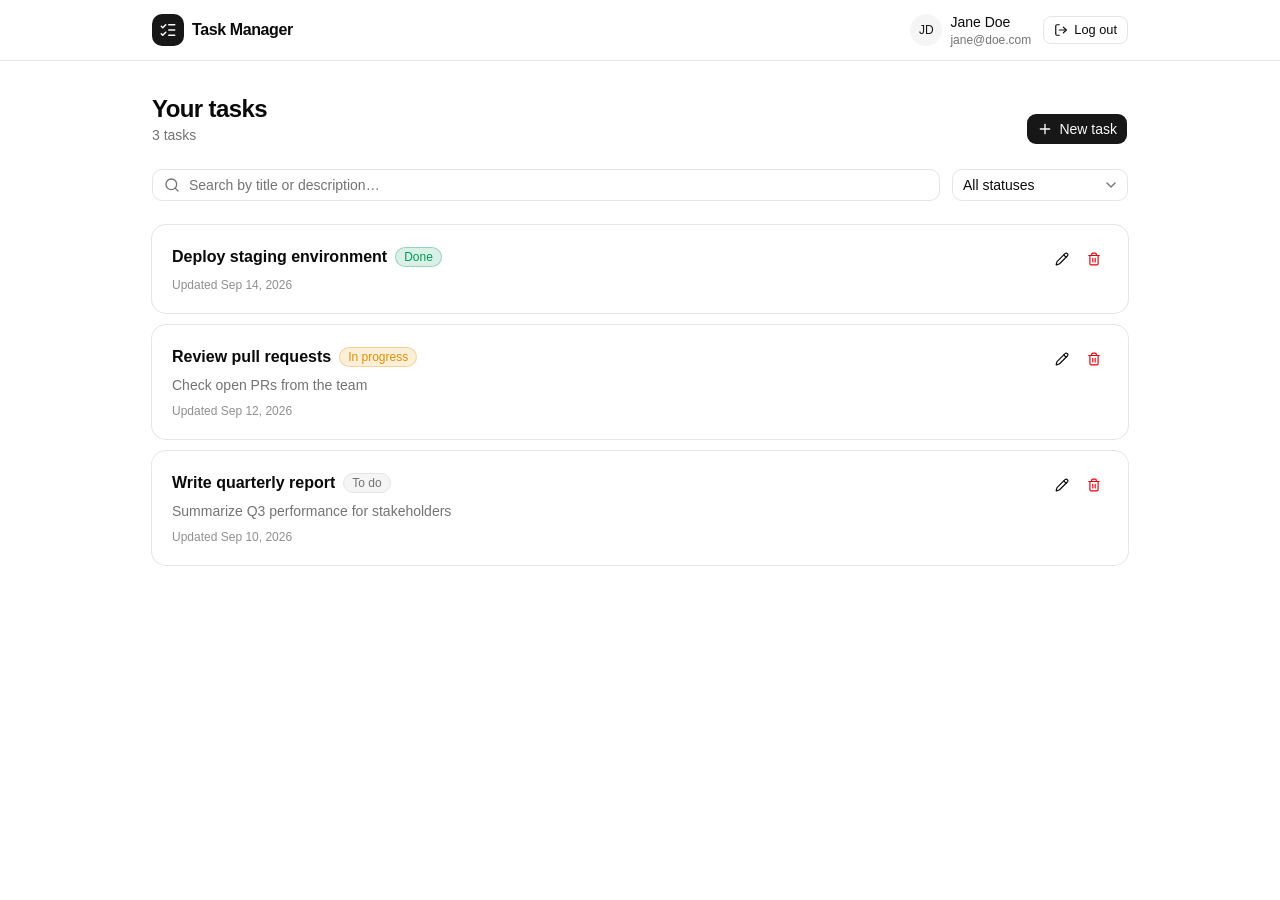
Test case: DashboardPage › edits a task and reflects the update in the list
Check: the heading "Write quarterly report" is shown, box [172,471,335,495]
Click the button named "Edit Write quarterly report" at (1062, 485), box [1048,471,1076,499]
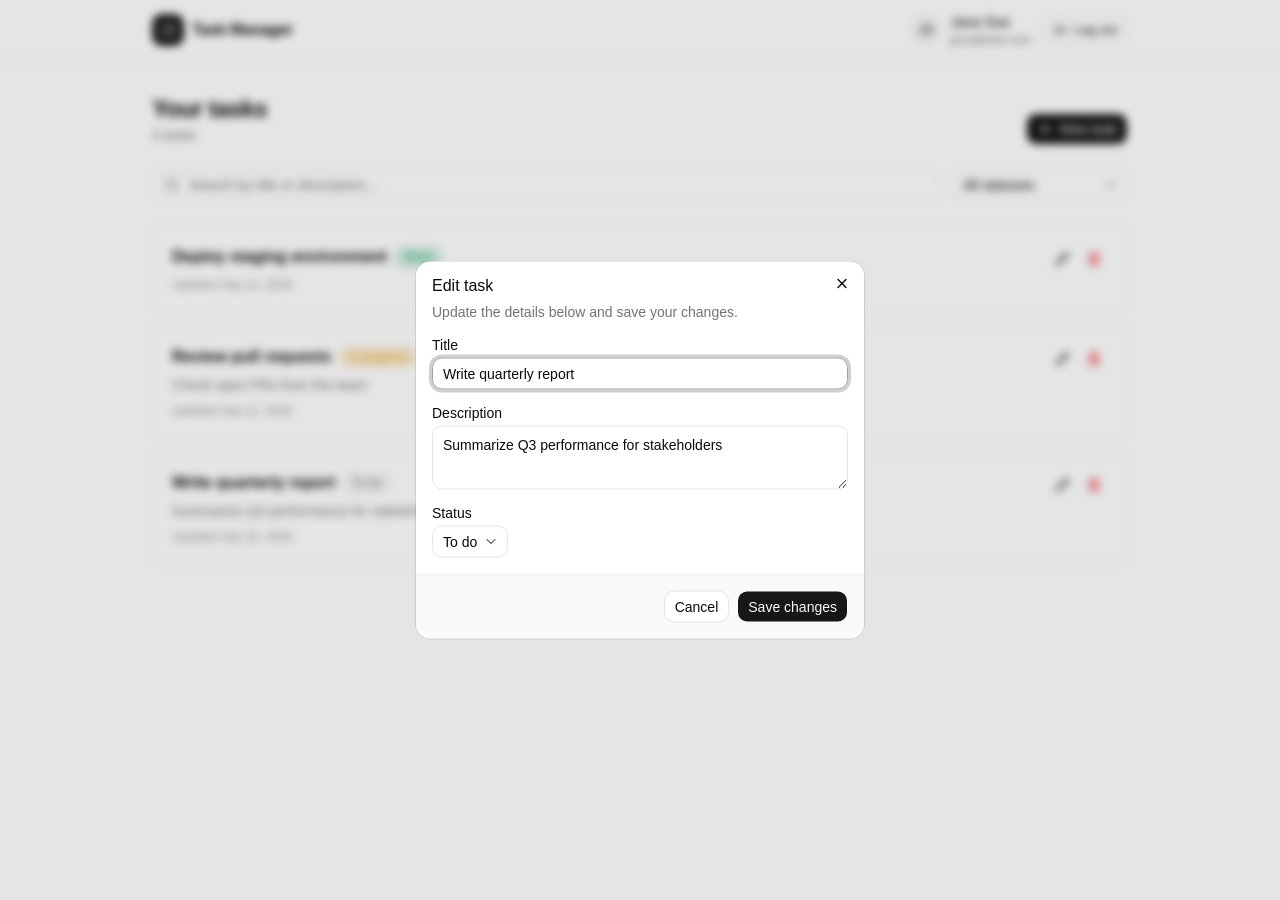
Replace the text in the field labelled "Title" with "Write annual report" at (640, 374), box [432,358,848,390]
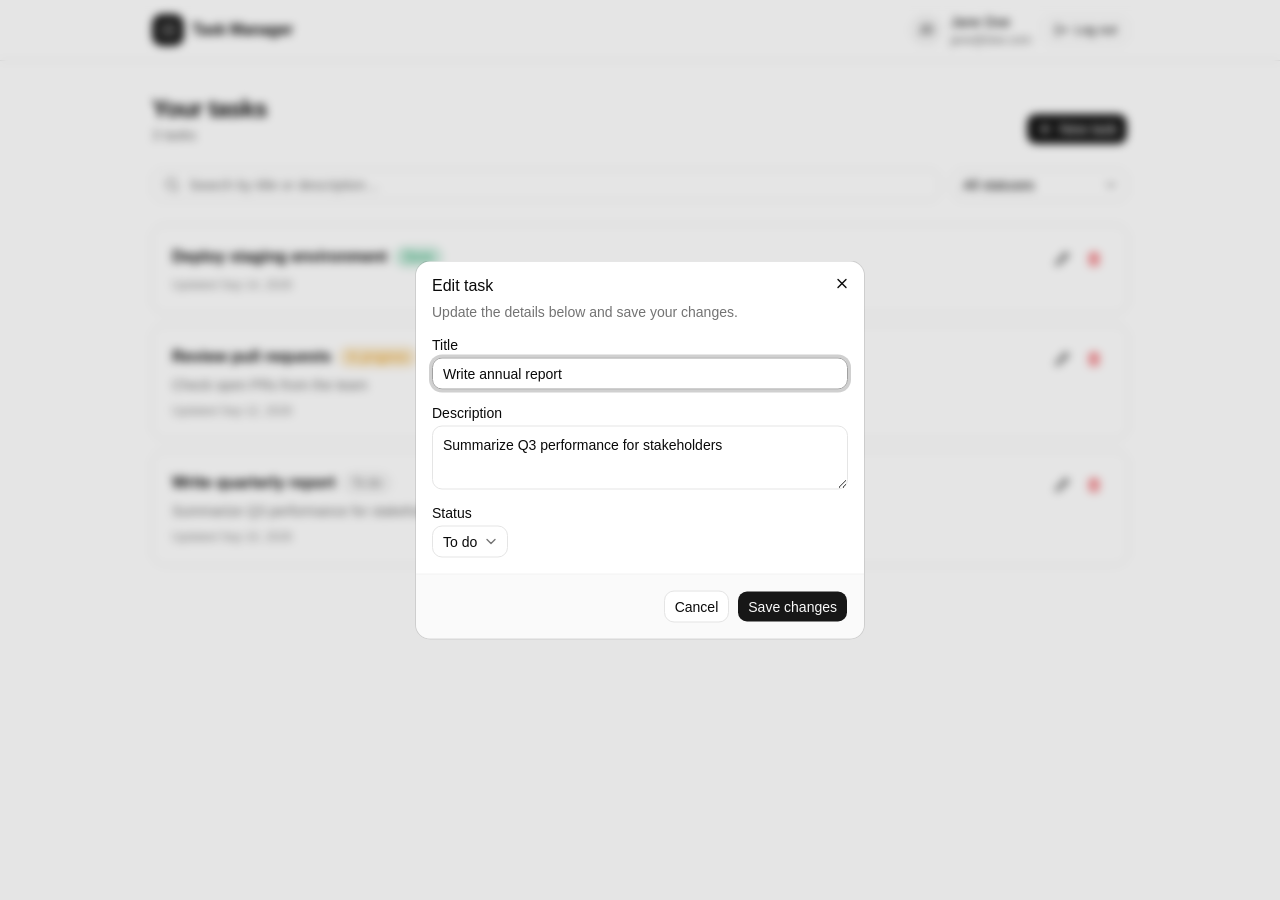
Click the button "Save changes" at (793, 606), box [737,590,848,622]
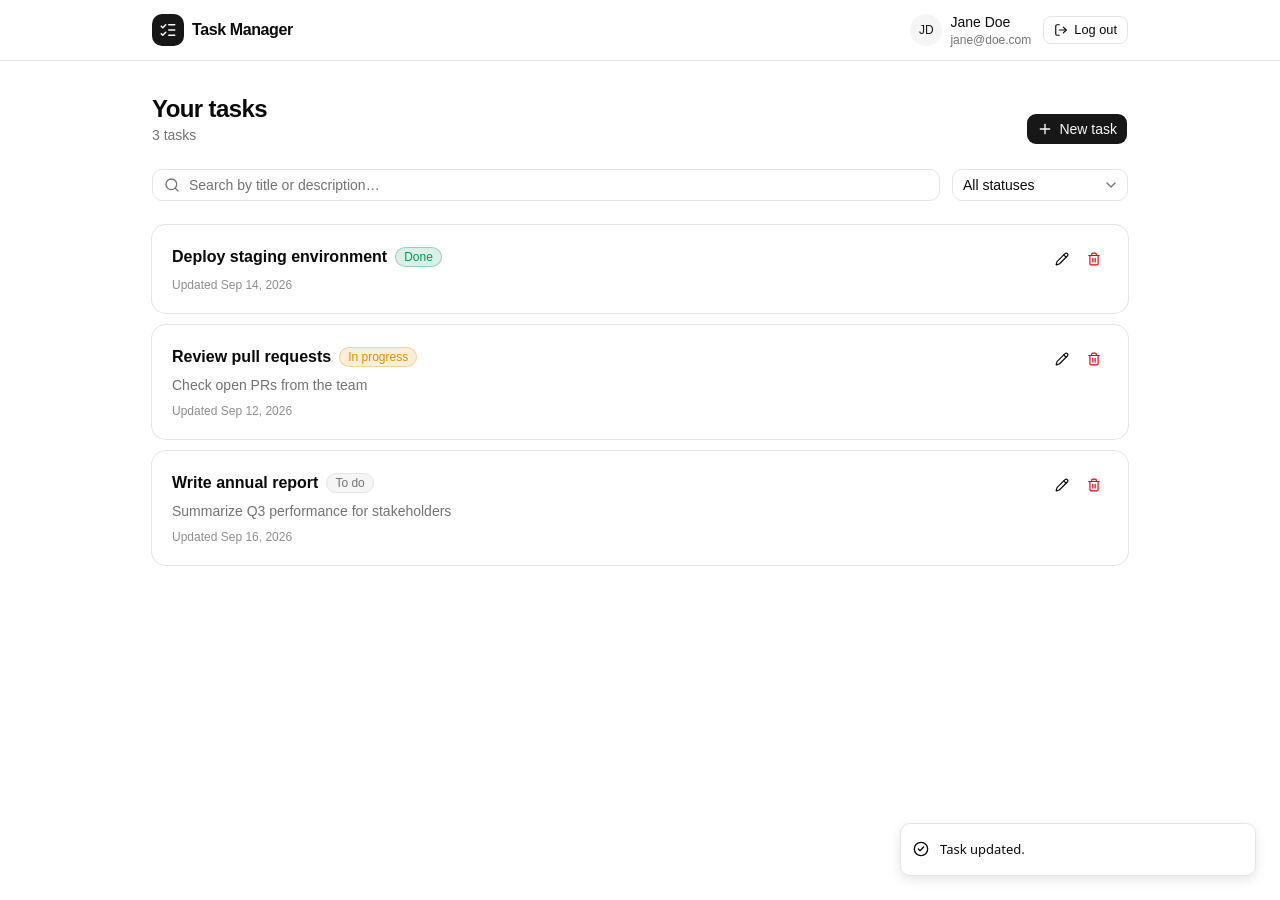
Check: the heading "Write annual report" is shown, box [172,471,318,495]
Check: the heading "Write quarterly report" is gone
